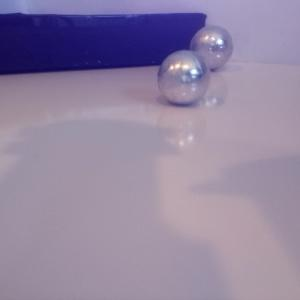zone: (1, 12, 206, 74)
